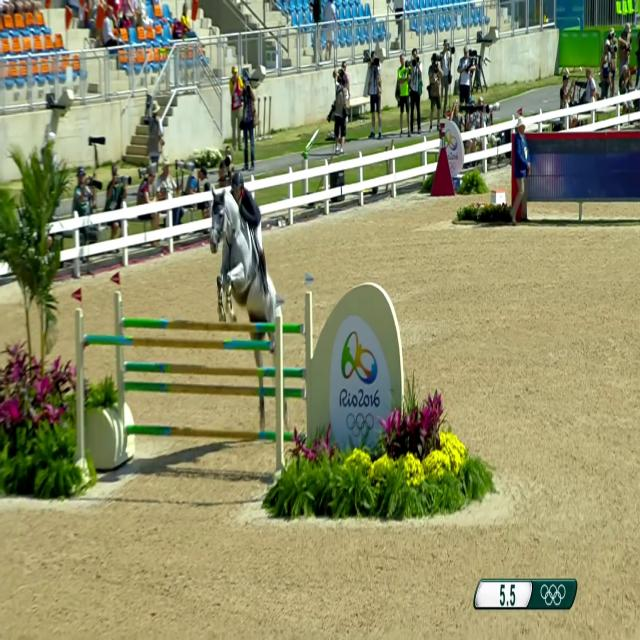Horse Jumping: (204, 176, 308, 452)
